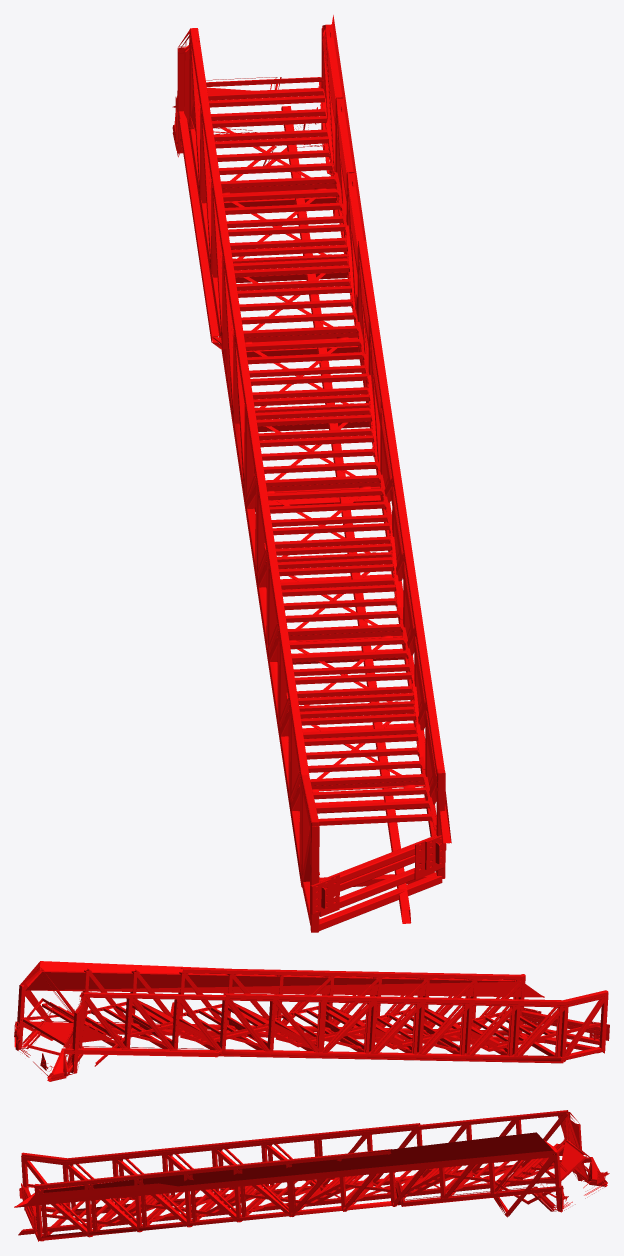
File: trapPenta.fbx
3 renders of one model, top to bottom at view 1: azimuth 30°, elevation 25°; view 2: azimuth 150°, elevation 25°; view 3: azimuth 270°, elevation 25°, orthographic. The views are drawn at different scales.
Visible parts, largest first — view 1: pasted__MONHOW1_trap GV - 1ste; view 2: pasted__MONHOW1_trap GV - 1ste; view 3: pasted__MONHOW1_trap GV - 1ste.
Boxes of the visible parts, x1,y1,x2,y2 form: pasted__MONHOW1_trap GV - 1ste: (172, 15, 451, 932); pasted__MONHOW1_trap GV - 1ste: (14, 961, 609, 1081); pasted__MONHOW1_trap GV - 1ste: (14, 1110, 609, 1241).
Size of the model in its own units: 2677 by 1928 by 4937.
